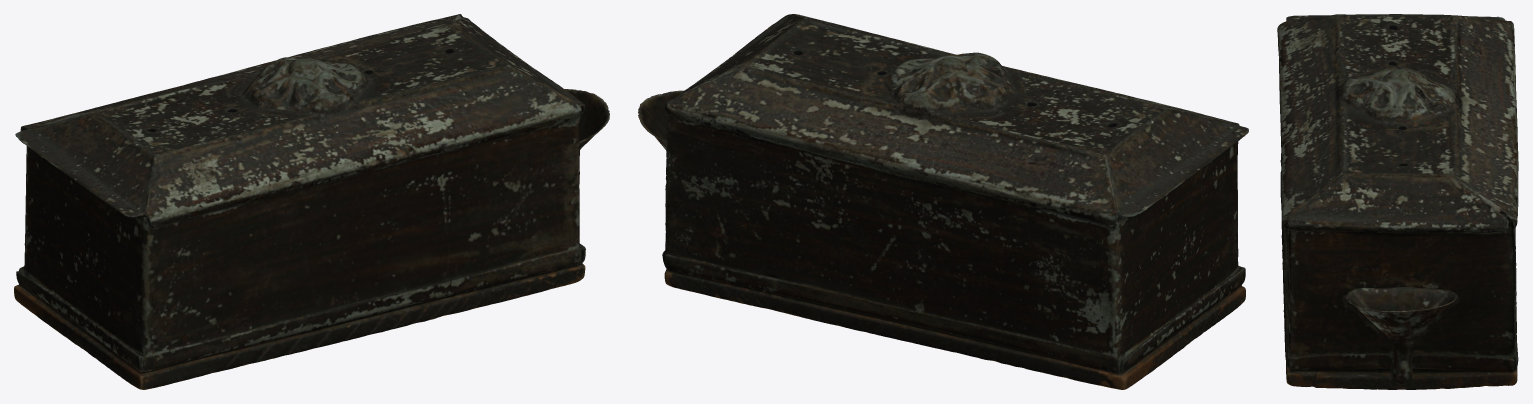
The model's file is preview.glb.
The picture shows the model from 3 angles, left to right: view 1: azimuth 30°, elevation 25°; view 2: azimuth 150°, elevation 25°; view 3: azimuth 270°, elevation 25°; orthographic projection. The views are drawn at different scales.
Bounding box in the file's own units: 243 × 101 × 101.
Materials: 1 (1 with a texture image).
